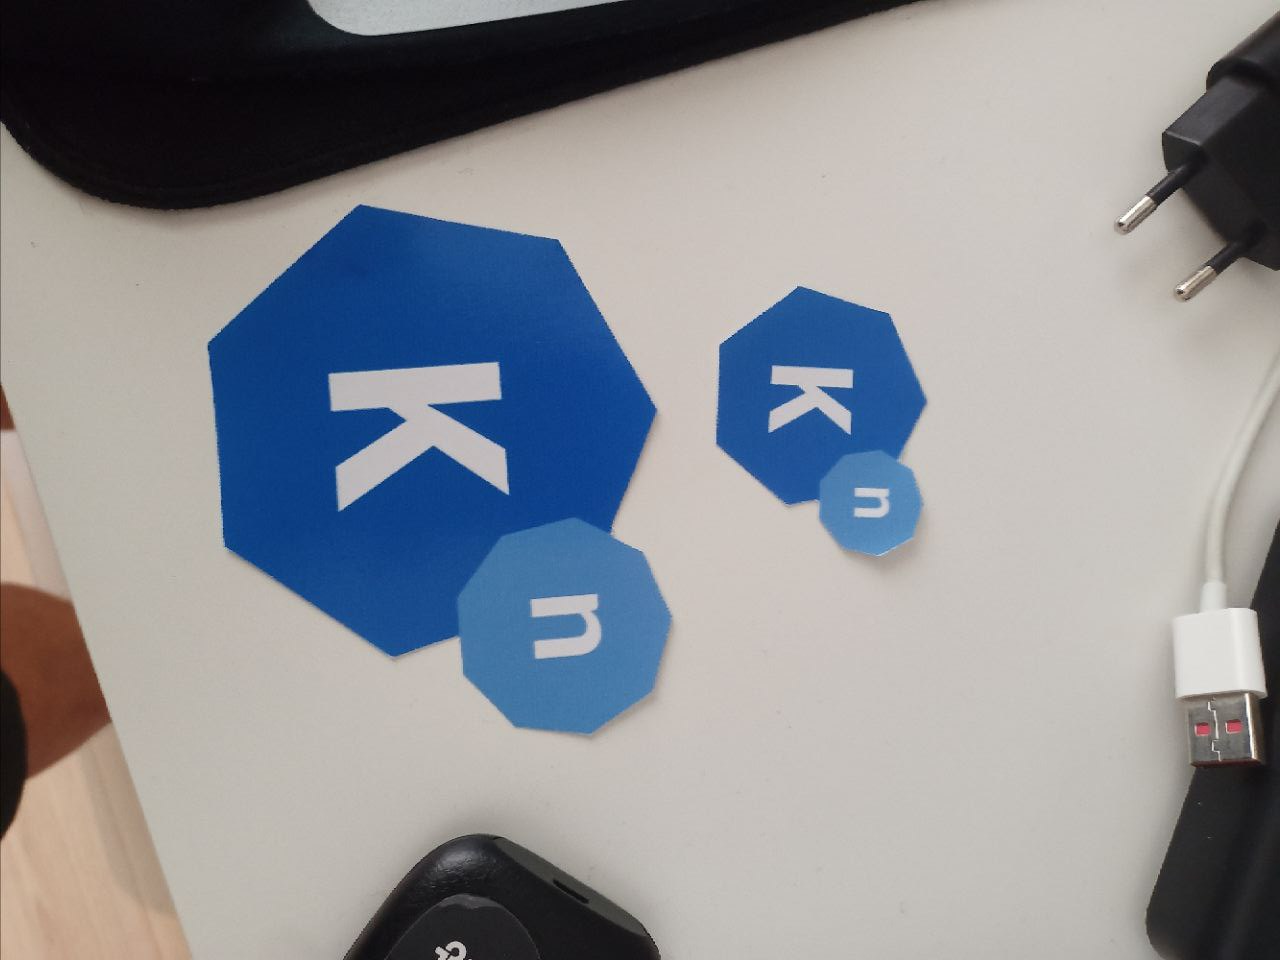knative: (606, 224, 1074, 764), (713, 282, 932, 560)
